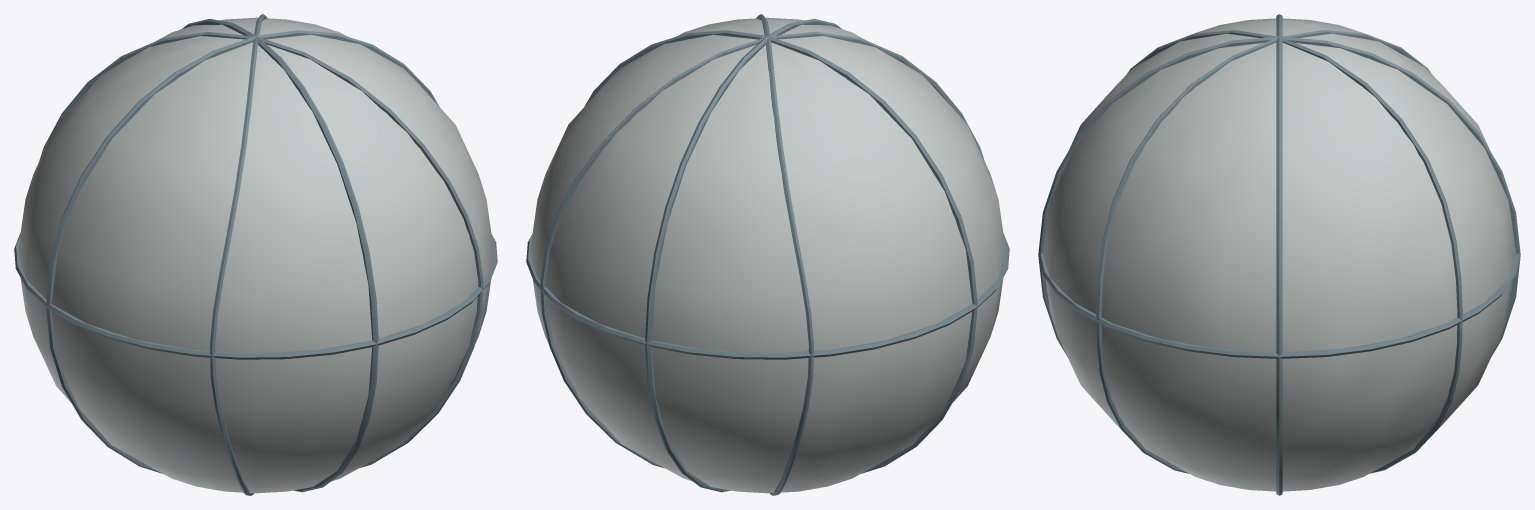
Rendered from basketball.glb.
3 views of the same model, side by side, from view 1: azimuth 30°, elevation 25°; view 2: azimuth 150°, elevation 25°; view 3: azimuth 270°, elevation 25° (orthographic).
Parts seen in each view (by area): view 1: ball, panel_seam.002, curved_seam.001, panel_seam.001, panel_seam, curved_seam; view 2: ball, panel_seam.002, curved_seam, panel_seam.001, panel_seam, curved_seam.001; view 3: ball, panel_seam, panel_seam.001, curved_seam, curved_seam.001, panel_seam.002.
Part boxes in pixels (x1=…): ball: x1=17, y1=17, x2=494, y2=493; panel_seam.002: x1=46, y1=30, x2=439, y2=473; curved_seam.001: x1=39, y1=32, x2=483, y2=467; panel_seam.001: x1=14, y1=233, x2=497, y2=359; panel_seam: x1=181, y1=18, x2=378, y2=492; curved_seam: x1=209, y1=14, x2=267, y2=495; ball: x1=529, y1=17, x2=1006, y2=493; panel_seam.002: x1=584, y1=30, x2=977, y2=473; curved_seam: x1=540, y1=31, x2=984, y2=468; panel_seam.001: x1=526, y1=233, x2=1009, y2=359; panel_seam: x1=645, y1=18, x2=842, y2=492; curved_seam.001: x1=756, y1=14, x2=814, y2=495; ball: x1=1042, y1=18, x2=1516, y2=491; panel_seam: x1=1038, y1=36, x2=1520, y2=356; panel_seam.001: x1=1038, y1=253, x2=1520, y2=358; curved_seam: x1=1127, y1=30, x2=1462, y2=473; curved_seam.001: x1=1096, y1=30, x2=1431, y2=473; panel_seam.002: x1=1276, y1=14, x2=1282, y2=495.
Bounding box in the file's own units: 0.2436 × 0.2436 × 0.2436.
